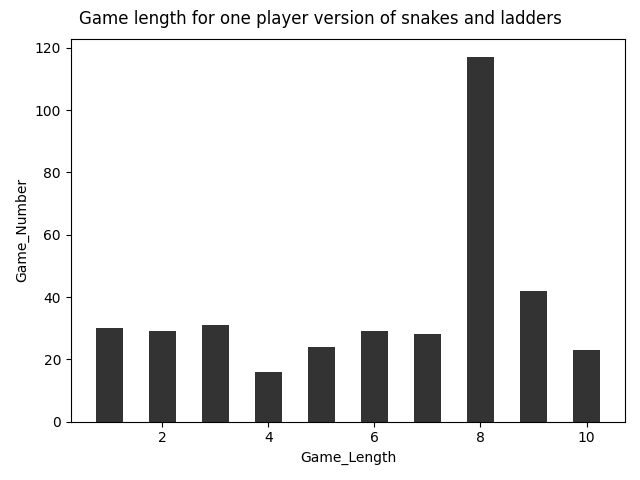canvas: (89, 51, 611, 423)
title: (76, 7, 569, 31)
x-axis: (65, 420, 636, 430)
x-labels: (127, 430, 603, 446)
x-title: (295, 448, 400, 468)
y-axis: (63, 35, 74, 432)
y-labels: (33, 38, 63, 430)
y-title: (11, 174, 31, 293)
